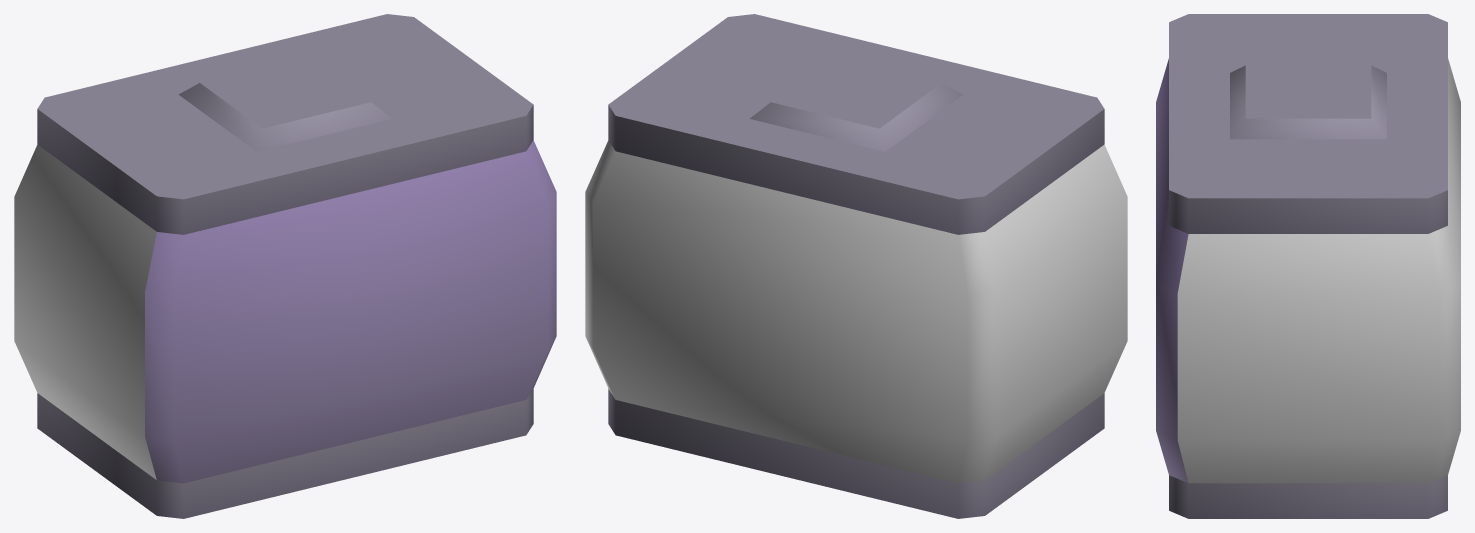
Rendered from aquarium.glb.
The picture shows the model from 3 angles, left to right: view 1: azimuth 30°, elevation 25°; view 2: azimuth 150°, elevation 25°; view 3: azimuth 270°, elevation 25°; orthographic projection.
Parts seen in each view (by area): view 1: aquarium; view 2: aquarium; view 3: aquarium.
Part boxes in pixels (box(x1,y1,x2,y2)): aquarium: box(14, 14, 556, 518); aquarium: box(585, 14, 1127, 518); aquarium: box(1156, 14, 1460, 518).
Size of the model in its own units: 0.6063 by 0.47 by 0.3878.
